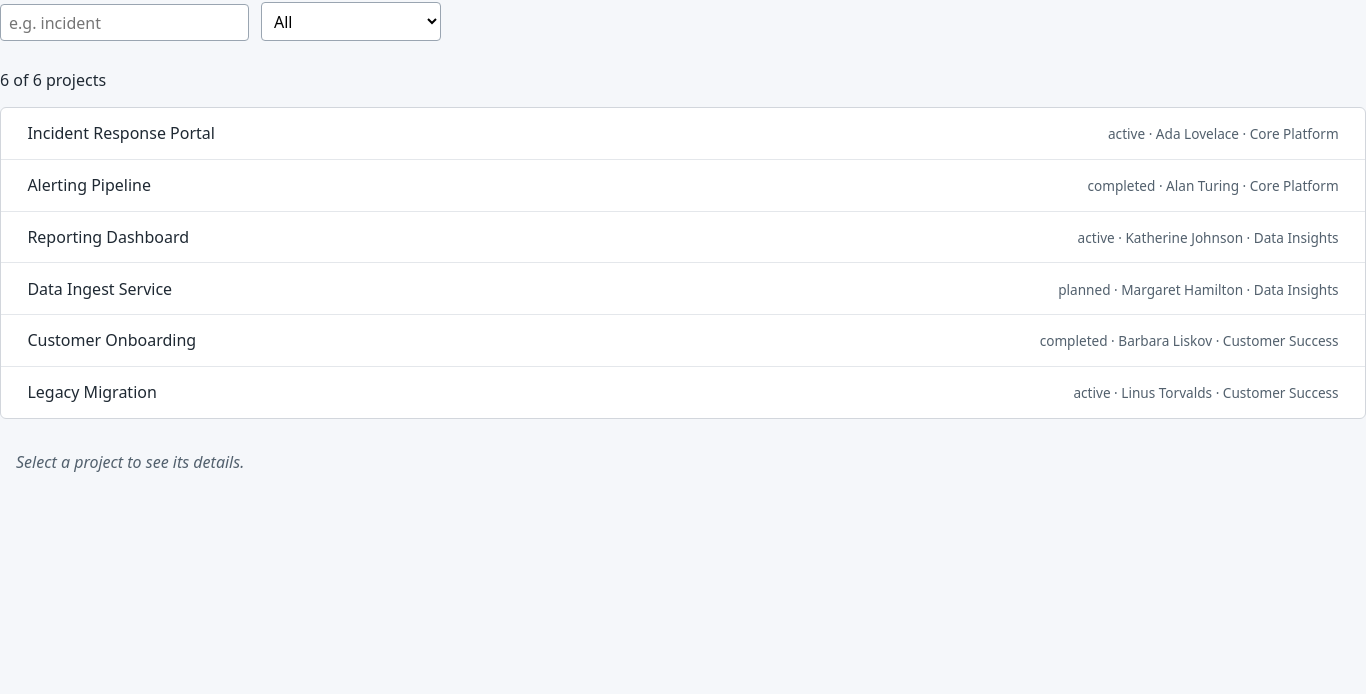
Test case: ProjectsPage — detail (PRJ-VIEW) › shows description, owner, team and tasks with status and priority (PRJ-VIEW-1/2)
The image size is (1366, 694).
Click the button "Incident Response Portal". click: (121, 133)
box: [13,116,1353,151]
(page scrolled)
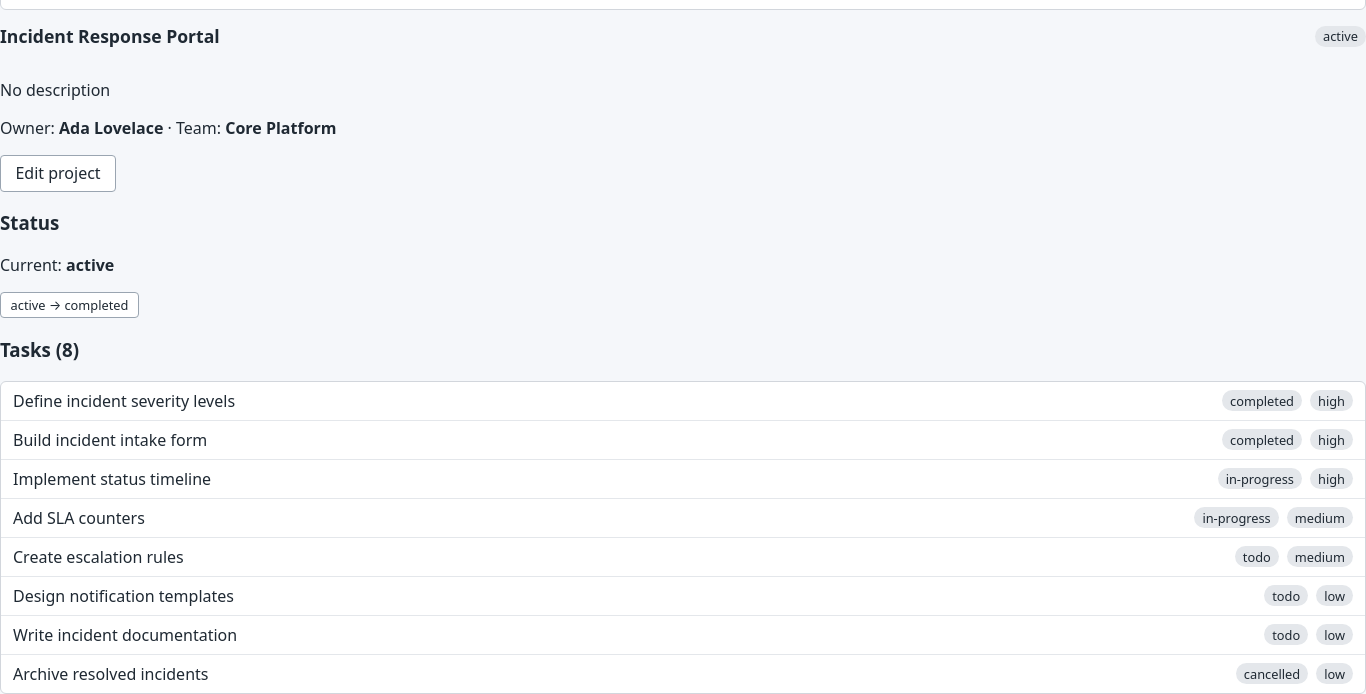
Result: the text "active" next to "Current:" is shown at [66,254,114,276]
Result: the text "Ada Lovelace" is shown at [59,117,163,139]
Result: the text "Core Platform" is shown at [225,117,337,139]
